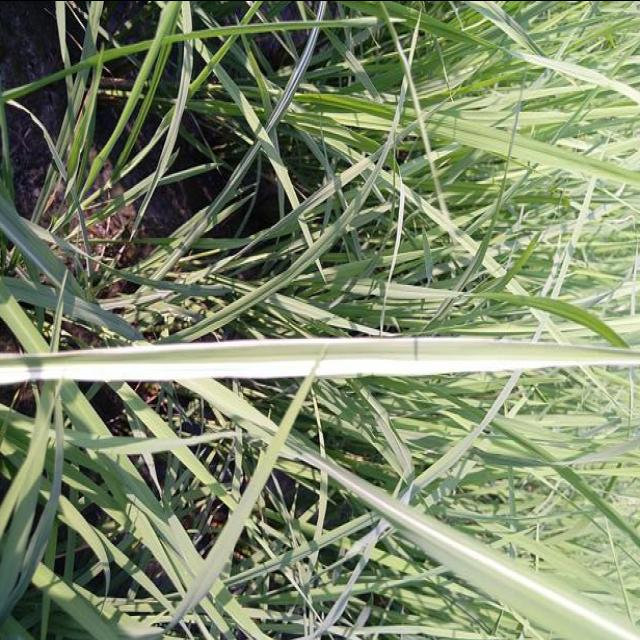Leaf Blight: (308, 453, 640, 640), (0, 335, 640, 384)
